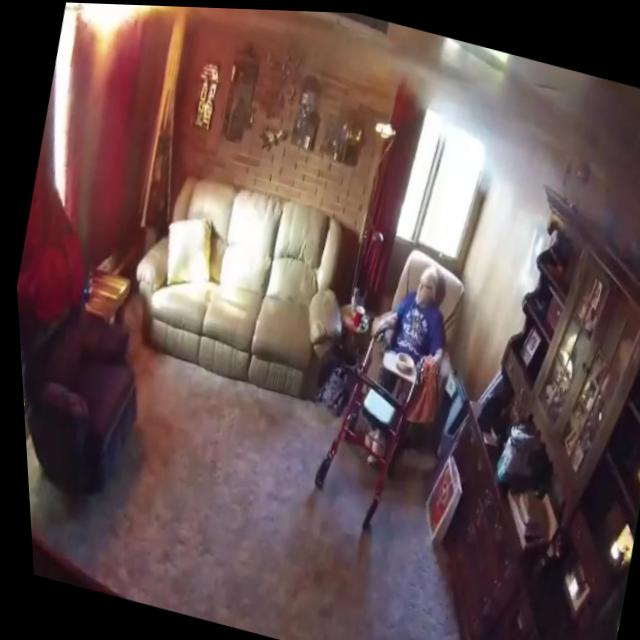fire: (62, 2, 209, 60)
